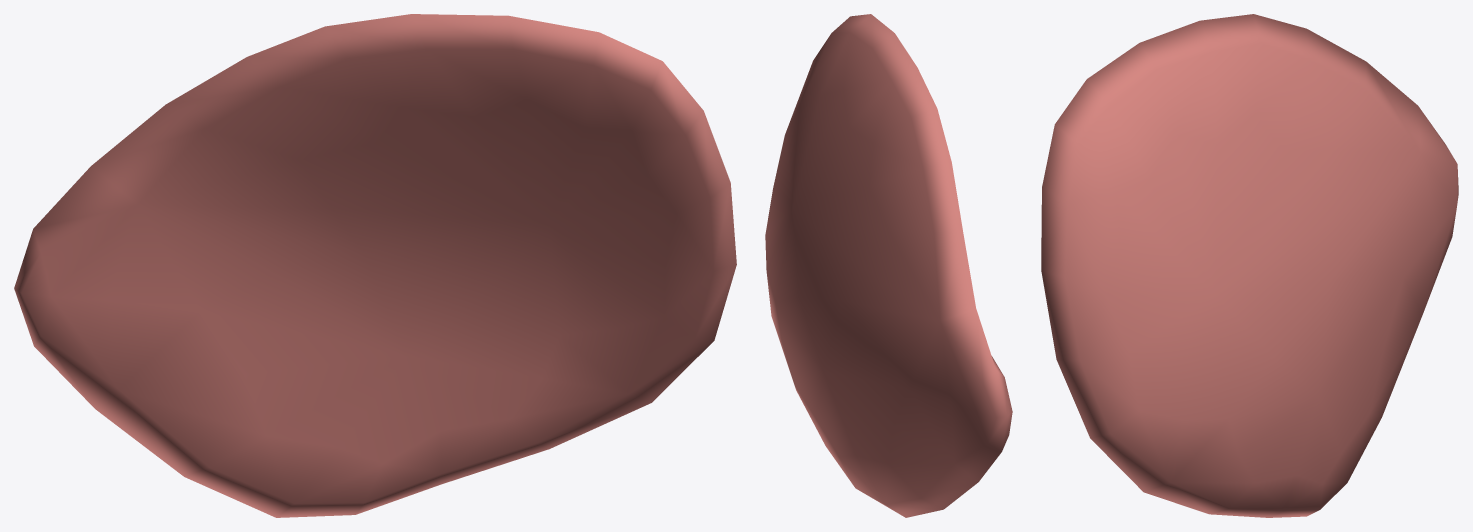
3 renders of one model, left to right at view 1: azimuth 30°, elevation 25°; view 2: azimuth 150°, elevation 25°; view 3: azimuth 270°, elevation 25°, orthographic. The views are drawn at different scales.
Visible parts, largest first — view 1: ZA_b88c16e12080de07; view 2: ZA_b88c16e12080de07; view 3: ZA_b88c16e12080de07.
Part boxes in pixels (x1,y1,x2,y2): ZA_b88c16e12080de07: (14,14,736,517); ZA_b88c16e12080de07: (765,14,1012,517); ZA_b88c16e12080de07: (1041,14,1458,517).
Size of the model in its own units: 0.00534 by 0.00549 by 0.00415.
